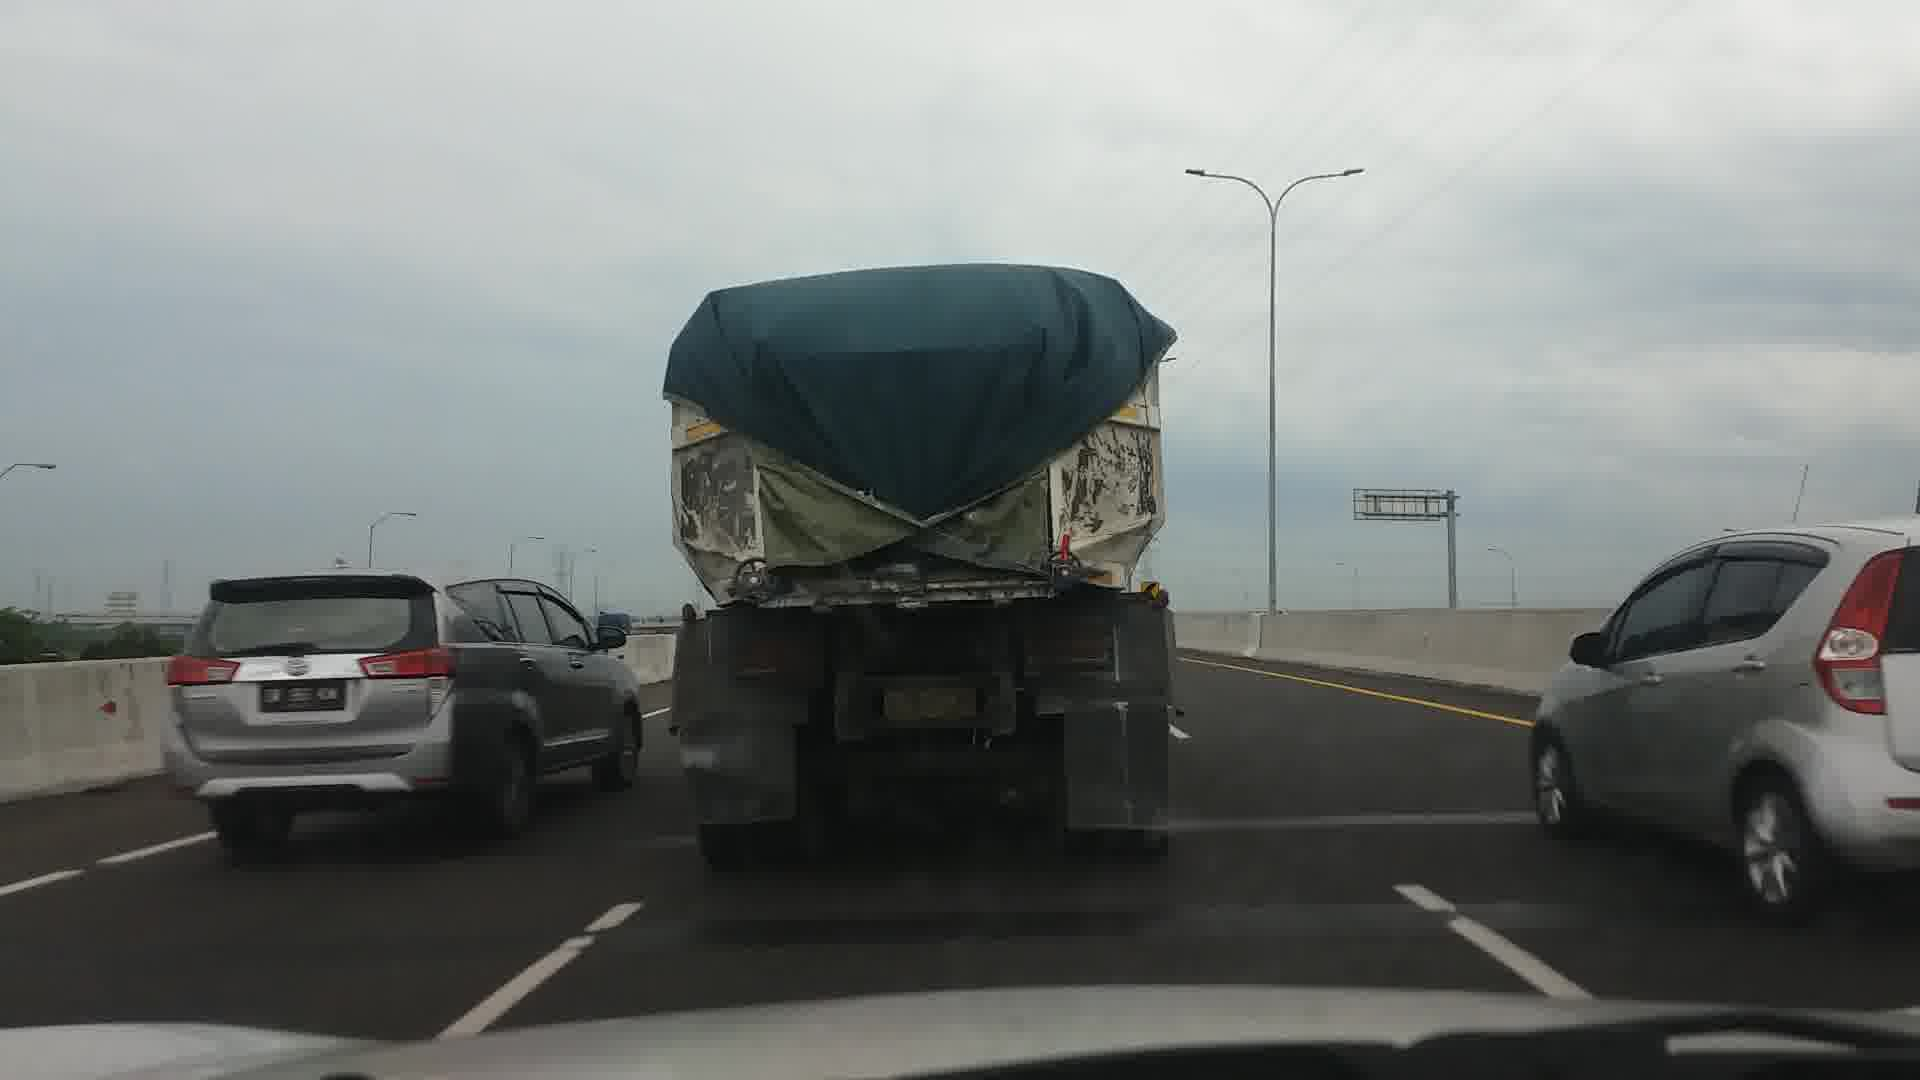plate_positive: (884, 684, 977, 720), (258, 680, 345, 713)
